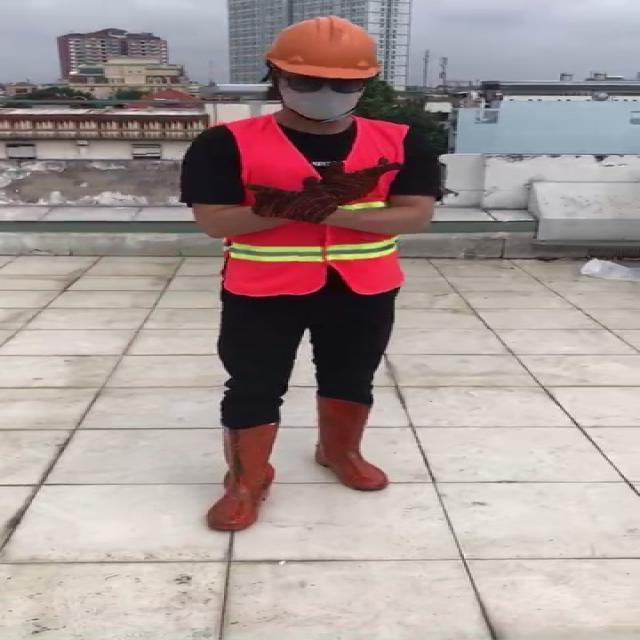helmet: (260, 11, 386, 80)
safety_vest: (220, 118, 414, 296)
